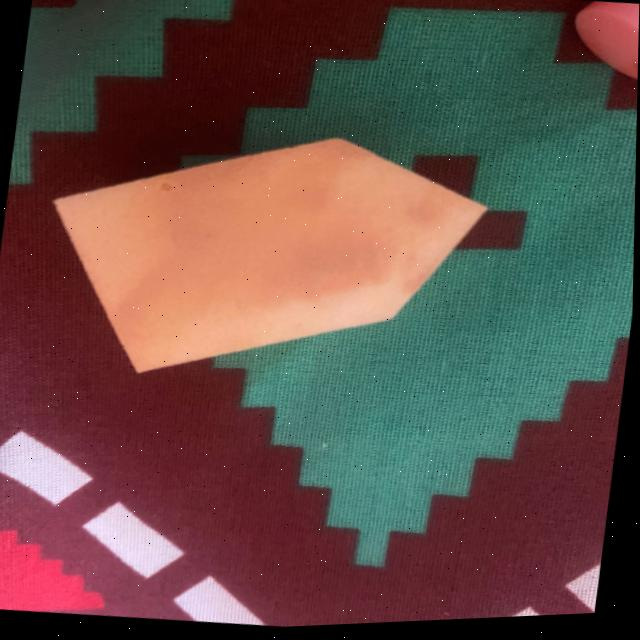beauty blender: (9, 78, 512, 434)
